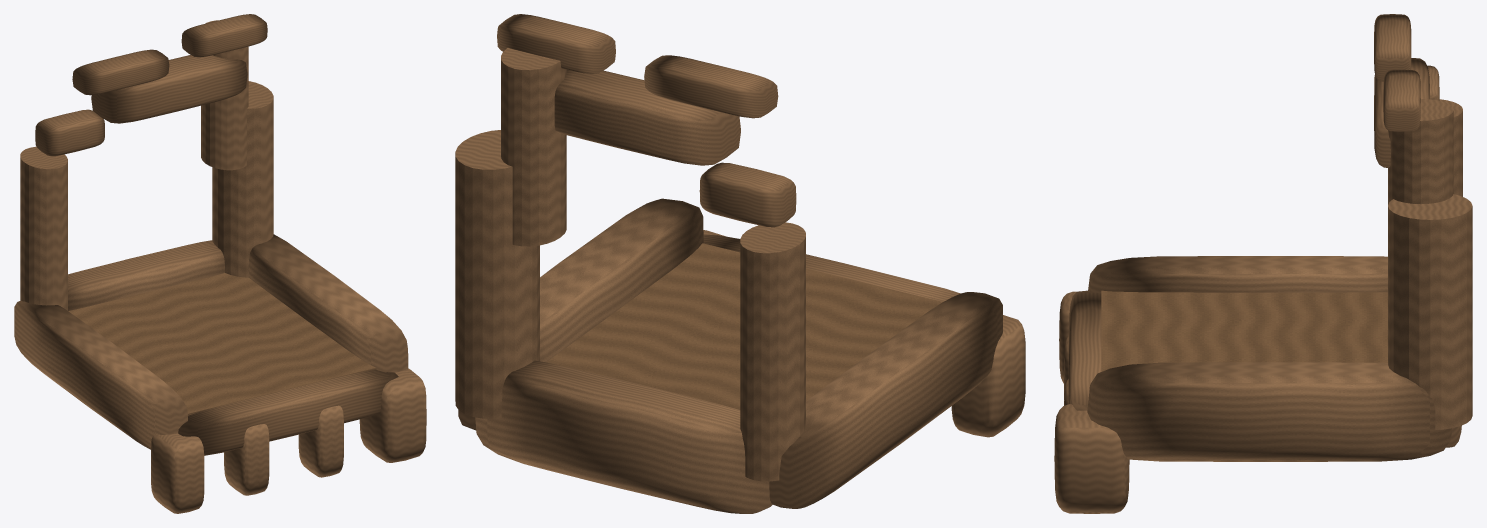
3 renders of one model, left to right at view 1: azimuth 30°, elevation 25°; view 2: azimuth 150°, elevation 25°; view 3: azimuth 270°, elevation 25°, orthographic. The views are drawn at different scales.
Visible parts, largest first — view 1: 9 platform_base, 6 side_rail_left, 7 side_rail_right, 1 front_rail, 10 trunk_right_lower, 15 trunk_left_lower, 12 branch_main_arch, 8 back_rail, 5 leg_front_right, 2 leg_front_left, 11 trunk_right_upper, 14 branch_top_left (+4 smaller); view 2: 8 back_rail, 9 platform_base, 6 side_rail_left, 10 trunk_right_lower, 15 trunk_left_lower, 7 side_rail_right, 12 branch_main_arch, 11 trunk_right_upper, 14 branch_top_left, 2 leg_front_left, 16 branch_left_upper, 13 branch_top_right (+1 smaller); view 3: 7 side_rail_right, 9 platform_base, 10 trunk_right_lower, 6 side_rail_left, 5 leg_front_right, 11 trunk_right_upper, 1 front_rail, 13 branch_top_right, 14 branch_top_left, 12 branch_main_arch, 15 trunk_left_lower, 2 leg_front_left.
Part boxes in pixels (x1=…): 9 platform_base: x1=68, y1=273, x2=376, y2=415; 6 side_rail_left: x1=14, y1=300, x2=187, y2=449; 7 side_rail_right: x1=248, y1=234, x2=408, y2=372; 1 front_rail: x1=178, y1=369, x2=398, y2=455; 10 trunk_right_lower: x1=212, y1=81, x2=273, y2=277; 15 trunk_left_lower: x1=20, y1=146, x2=67, y2=310; 12 branch_main_arch: x1=91, y1=55, x2=247, y2=123; 8 back_rail: x1=68, y1=240, x2=224, y2=310; 5 leg_front_right: x1=359, y1=368, x2=426, y2=462; 2 leg_front_left: x1=151, y1=433, x2=204, y2=513; 11 trunk_right_upper: x1=201, y1=20, x2=248, y2=170; 14 branch_top_left: x1=72, y1=49, x2=169, y2=95; 8 back_rail: x1=475, y1=360, x2=772, y2=513; 9 platform_base: x1=546, y1=243, x2=942, y2=409; 6 side_rail_left: x1=769, y1=292, x2=1002, y2=508; 10 trunk_right_lower: x1=455, y1=130, x2=539, y2=418; 15 trunk_left_lower: x1=740, y1=222, x2=805, y2=481; 7 side_rail_right: x1=458, y1=198, x2=703, y2=430; 12 branch_main_arch: x1=554, y1=69, x2=740, y2=165; 11 trunk_right_upper: x1=501, y1=48, x2=566, y2=246; 14 branch_top_left: x1=644, y1=55, x2=778, y2=118; 2 leg_front_left: x1=951, y1=315, x2=1025, y2=437; 16 branch_left_upper: x1=699, y1=162, x2=796, y2=227; 13 branch_top_right: x1=497, y1=14, x2=615, y2=73; 7 side_rail_right: x1=1087, y1=362, x2=1451, y2=461; 9 platform_base: x1=1101, y1=290, x2=1387, y2=371; 10 trunk_right_lower: x1=1388, y1=194, x2=1472, y2=429; 6 side_rail_left: x1=1088, y1=256, x2=1387, y2=293; 5 leg_front_right: x1=1054, y1=404, x2=1129, y2=513; 11 trunk_right_upper: x1=1388, y1=99, x2=1453, y2=204; 1 front_rail: x1=1068, y1=290, x2=1101, y2=410; 13 branch_top_right: x1=1383, y1=69, x2=1420, y2=131; 14 branch_top_left: x1=1374, y1=14, x2=1411, y2=81; 12 branch_main_arch: x1=1374, y1=58, x2=1429, y2=167; 15 trunk_left_lower: x1=1439, y1=99, x2=1462, y2=196; 2 leg_front_left: x1=1059, y1=291, x2=1076, y2=383.
Size of the model in its own units: 0.78 by 1 by 0.95.
2 materials, 2 textured.
